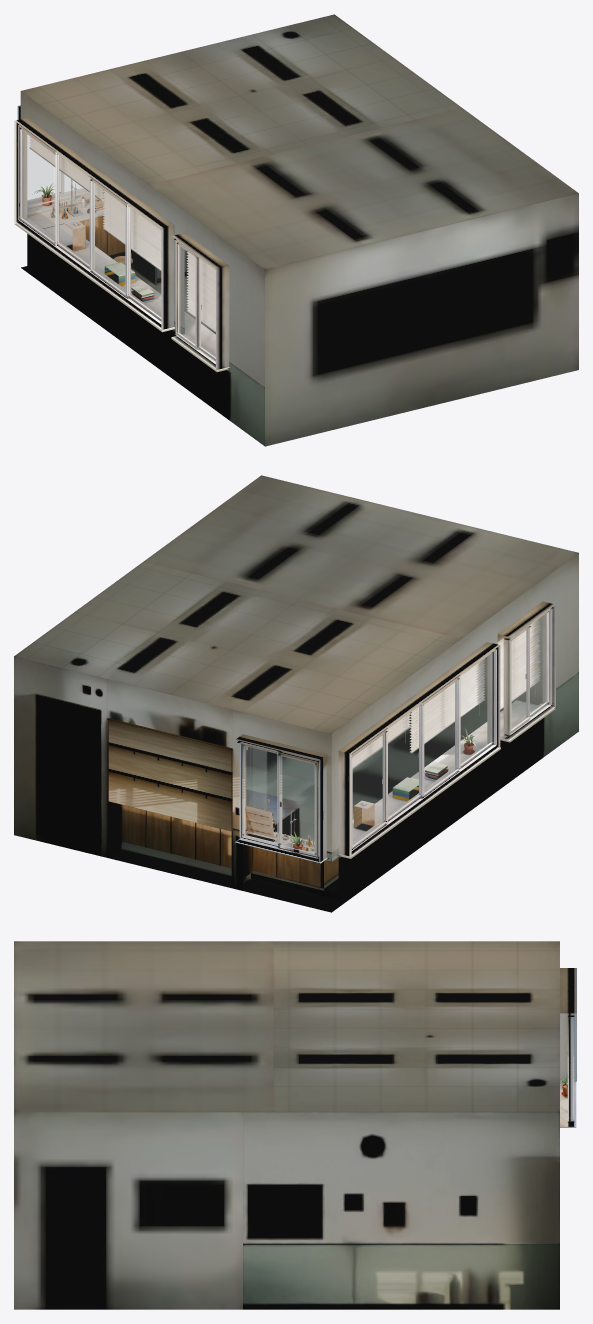
File: room.glb
3 views of the same model, one above another, from view 1: azimuth 30°, elevation 25°; view 2: azimuth 150°, elevation 25°; view 3: azimuth 270°, elevation 25° (orthographic). The views are drawn at different scales.
Visible parts, largest first — view 1: room_2, glass_window; view 2: room_2, glass_window, room_1, glass_cabinet; view 3: room_2.
Boxes of the visible parts, x1=… form: room_2: x1=14, y1=14, x2=578, y2=446; glass_window: x1=22, y1=131, x2=215, y2=356; room_2: x1=14, y1=475, x2=578, y2=912; glass_window: x1=245, y1=615, x2=545, y2=852; room_1: x1=107, y1=718, x2=303, y2=887; glass_cabinet: x1=246, y1=747, x2=266, y2=809; room_2: x1=14, y1=941, x2=577, y2=1309.
Size of what is drawn, in the model's own units: 5.52 by 2.85 by 7.4.
5 materials, 2 textured.
